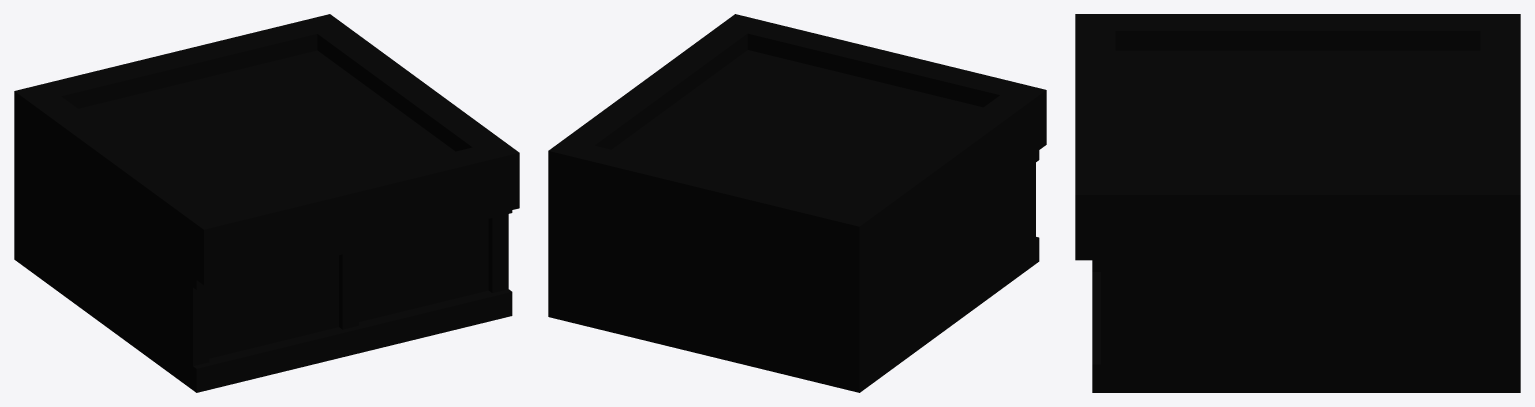
The model's file is pitsOffice.glb.
3 views of the same model, side by side, from view 1: azimuth 30°, elevation 25°; view 2: azimuth 150°, elevation 25°; view 3: azimuth 270°, elevation 25° (orthographic). The views are drawn at different scales.
Visible parts, largest first — view 1: Mesh noExport; view 2: Mesh noExport; view 3: Mesh noExport.
Part boxes in pixels (box(x1,y1,x2,y2)): Mesh noExport: box(14, 14, 519, 392); Mesh noExport: box(548, 14, 1046, 392); Mesh noExport: box(1075, 14, 1520, 392).
Size of the model in its own units: 1 by 0.51 by 1.04.
Materials: 1 (1 with a texture image).
